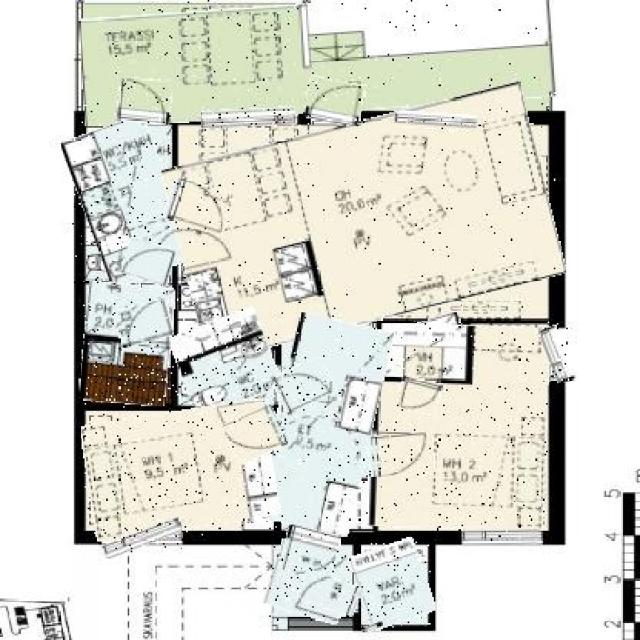door: (166, 182, 231, 232), (224, 409, 284, 462), (280, 528, 338, 580), (274, 363, 334, 412), (369, 434, 434, 477), (308, 77, 366, 125), (116, 300, 172, 345), (119, 78, 172, 124), (298, 574, 360, 612), (123, 240, 174, 283), (400, 375, 443, 414)
window: (102, 523, 183, 552), (200, 108, 295, 128), (543, 326, 571, 383), (396, 112, 478, 131), (462, 526, 538, 545), (362, 623, 383, 631)
zone: (171, 101, 558, 342), (79, 0, 555, 118), (369, 324, 548, 530), (266, 315, 383, 534), (83, 406, 277, 536), (72, 120, 182, 283), (81, 283, 174, 405), (174, 314, 277, 411), (355, 542, 431, 628), (268, 543, 350, 620), (372, 319, 470, 383)
